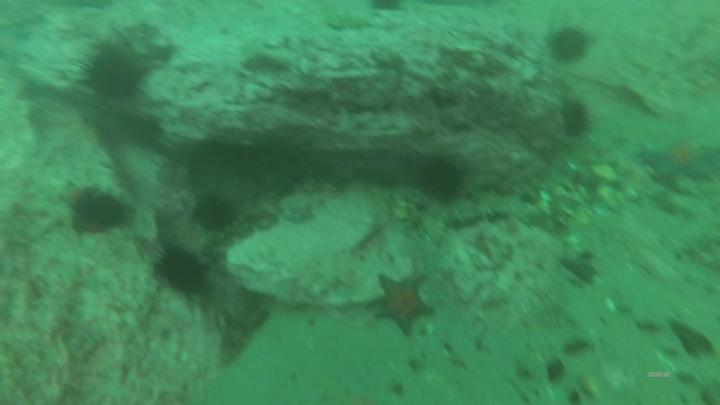echinus: (72, 44, 151, 109), (150, 244, 214, 301), (70, 188, 139, 235), (413, 154, 469, 207), (188, 194, 244, 233), (543, 26, 595, 67), (557, 96, 594, 141), (369, 1, 406, 13)
holothurian: (216, 289, 270, 375), (211, 207, 278, 250)
starfish: (372, 271, 439, 342), (638, 141, 720, 187), (56, 177, 89, 217), (283, 203, 320, 227)
